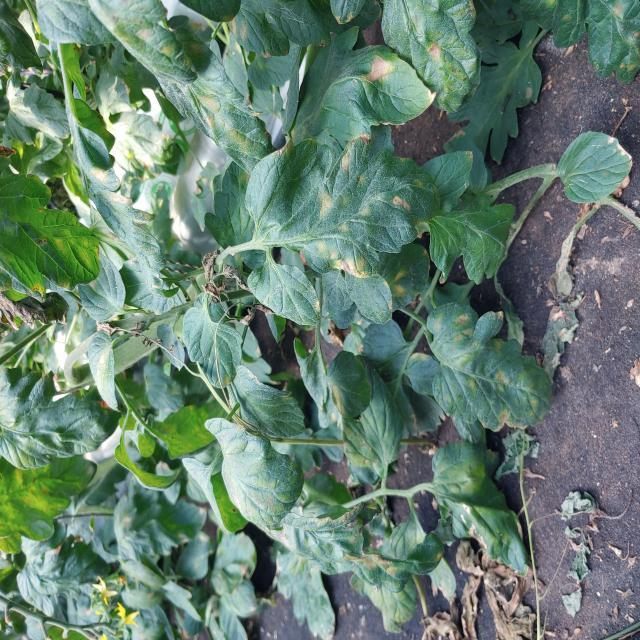Tomato mold leaf: (246, 129, 442, 281), (156, 28, 274, 174), (426, 303, 553, 432), (297, 24, 436, 140), (0, 172, 104, 294), (204, 417, 304, 530), (246, 260, 322, 328), (329, 350, 371, 420)
